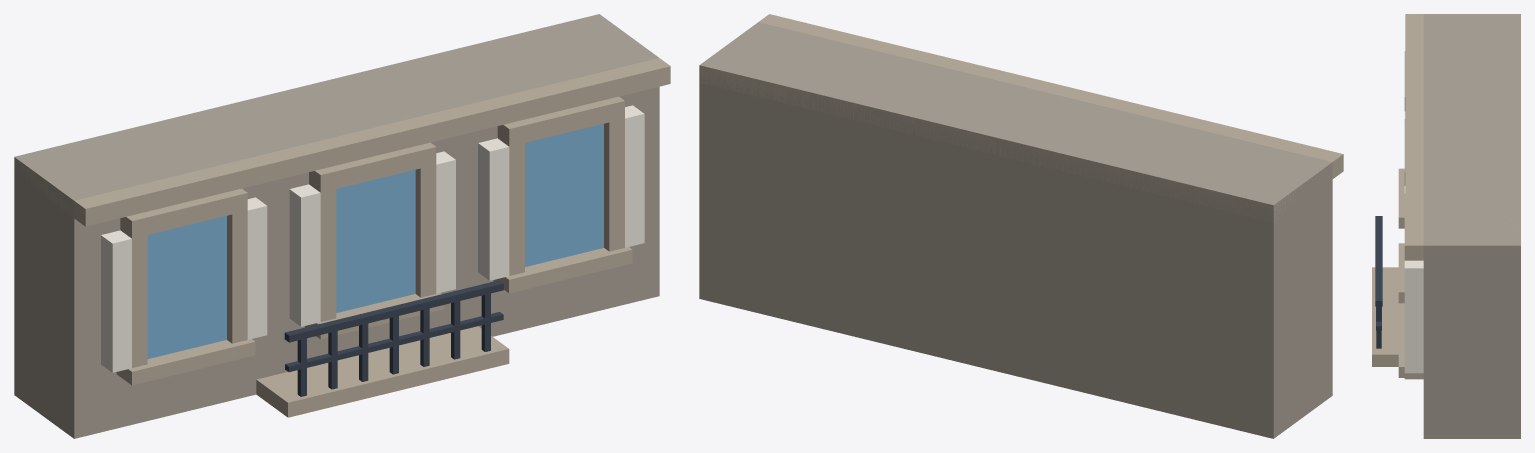
Rendered from cittaTortoraPianoA.glb.
3 renders of one model, left to right at view 1: azimuth 30°, elevation 25°; view 2: azimuth 150°, elevation 25°; view 3: azimuth 270°, elevation 25°, orthographic. The views are drawn at different scales.
Visible parts, largest first — view 1: cittaTortoraPianoA_cittaTortora, cittaTortoraPianoA_stone, cittaTortoraPianoA_glass, cittaTortoraPianoA_white, cittaTortoraPianoA_steelDark; view 2: cittaTortoraPianoA_cittaTortora, cittaTortoraPianoA_stone; view 3: cittaTortoraPianoA_cittaTortora, cittaTortoraPianoA_stone, cittaTortoraPianoA_white, cittaTortoraPianoA_steelDark.
Boxes of the visible parts, box(x1,y1,x2,y2) form: cittaTortoraPianoA_cittaTortora: box(14, 14, 659, 438); cittaTortoraPianoA_stone: box(14, 58, 670, 417); cittaTortoraPianoA_glass: box(147, 124, 603, 358); cittaTortoraPianoA_white: box(101, 105, 644, 372); cittaTortoraPianoA_steelDark: box(284, 280, 503, 396); cittaTortoraPianoA_cittaTortora: box(699, 22, 1332, 438); cittaTortoraPianoA_stone: box(699, 14, 1343, 221); cittaTortoraPianoA_cittaTortora: box(1423, 14, 1520, 438); cittaTortoraPianoA_stone: box(1372, 14, 1519, 379); cittaTortoraPianoA_white: box(1404, 111, 1423, 373); cittaTortoraPianoA_steelDark: box(1375, 216, 1382, 348).
Size of the model in its own units: 9 by 3.5 by 2.44.
